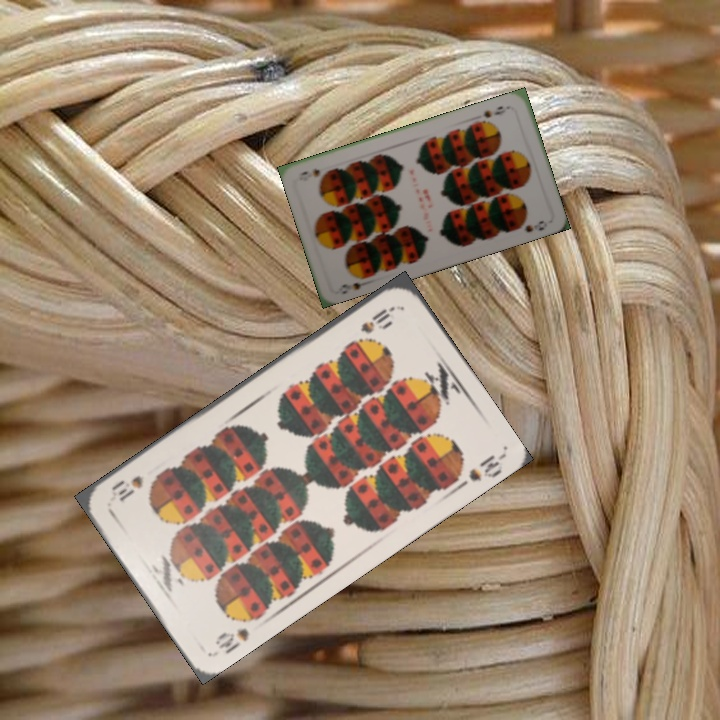S10: (356, 302, 398, 337), (211, 623, 252, 657)
S9: (333, 276, 373, 297), (478, 102, 514, 120)
